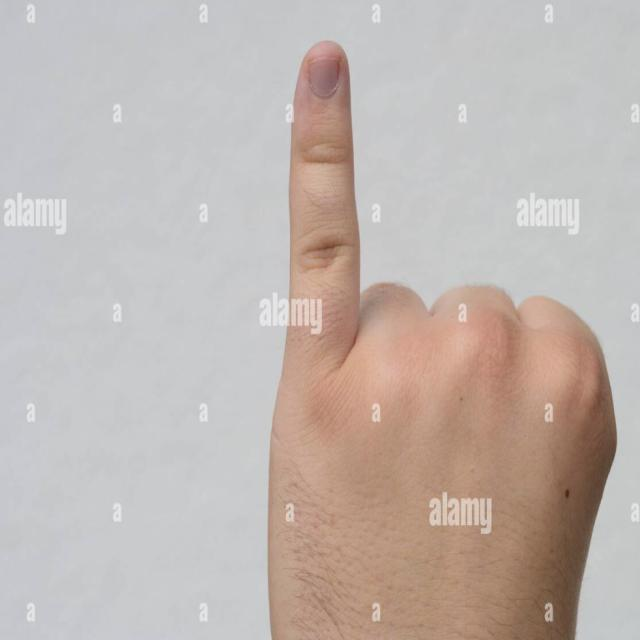pinky: (261, 30, 382, 366)
